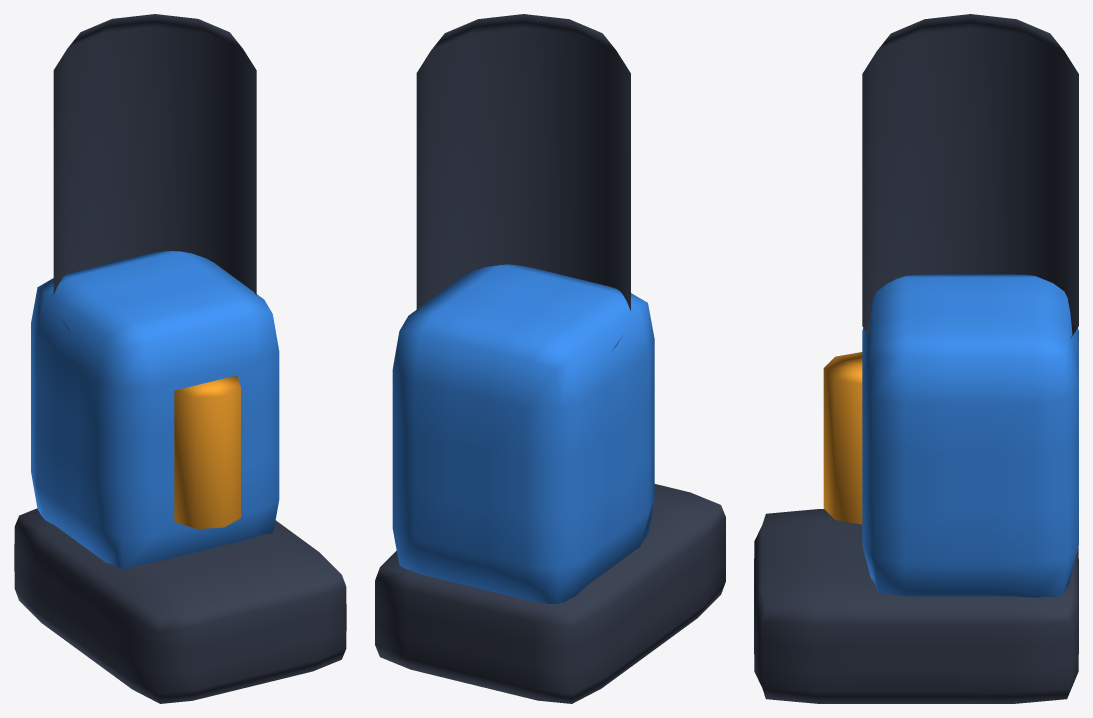
File: leg_hydraulic.obj
The picture shows the model from 3 angles, left to right: view 1: azimuth 30°, elevation 25°; view 2: azimuth 150°, elevation 25°; view 3: azimuth 270°, elevation 25°; orthographic projection. The views are drawn at different scales.
Size of the model in its own units: 0.32 by 0.87 by 0.42.
